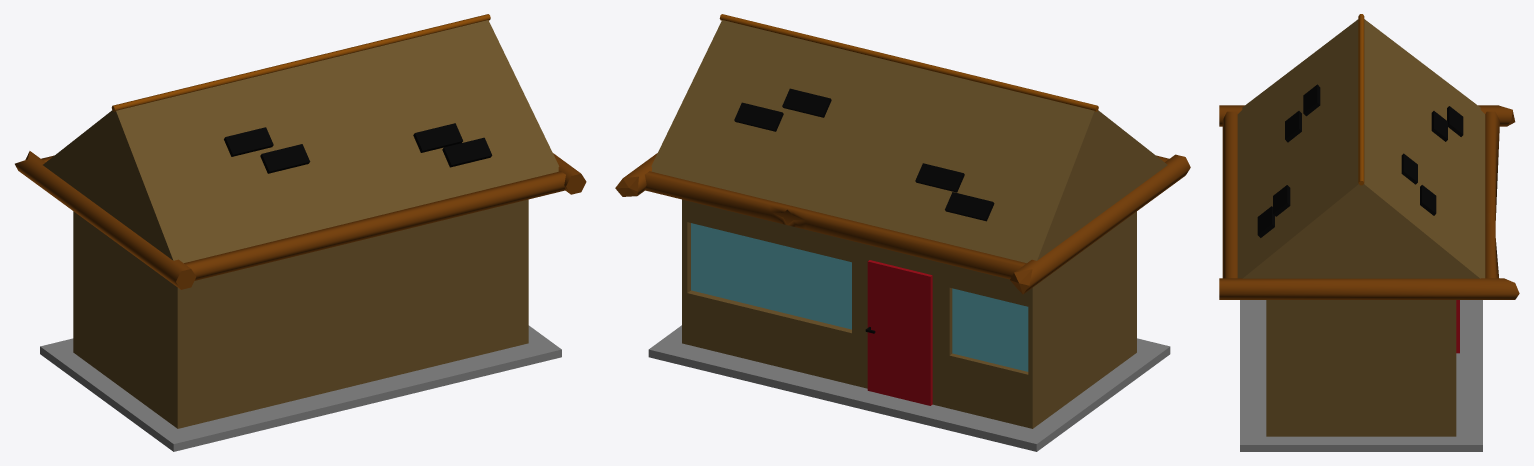
File: House13.fbx
The picture shows the model from 3 angles, left to right: view 1: azimuth 30°, elevation 25°; view 2: azimuth 150°, elevation 25°; view 3: azimuth 270°, elevation 25°; orthographic projection. The views are drawn at different scales.
Parts seen in each view (by area): view 1: House.013; view 2: House.013; view 3: House.013.
Boxes of the visible parts, left/top/right/bottom form: House.013: left=15, top=14, right=586, bottom=451; House.013: left=615, top=14, right=1190, bottom=451; House.013: left=1219, top=14, right=1519, bottom=451.
Bounding box in the file's own units: 720 × 495 × 501.
